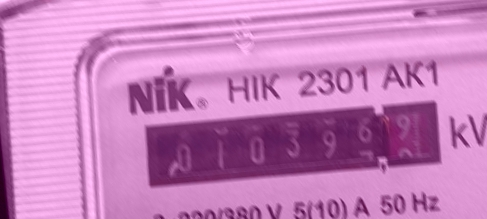0: (242, 131, 267, 166), (169, 138, 192, 173)
1: (210, 135, 226, 169)
3: (280, 125, 301, 160)
6: (350, 113, 374, 144)
9: (314, 125, 338, 160), (388, 110, 412, 142)
screen: (125, 80, 452, 207)
